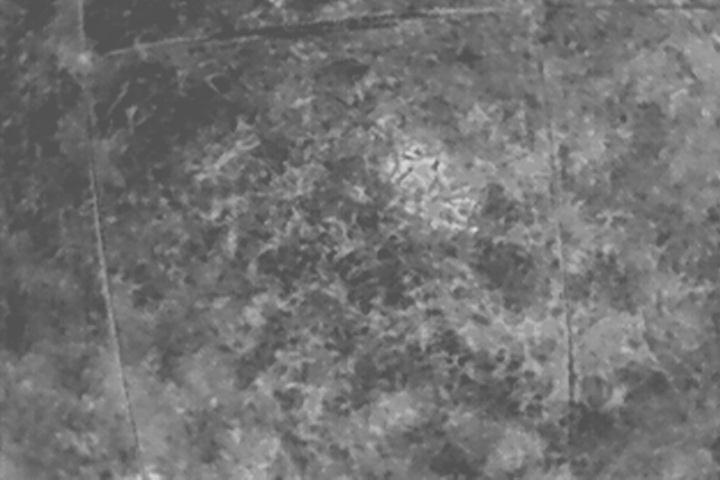landmine: (390, 140, 452, 196)
